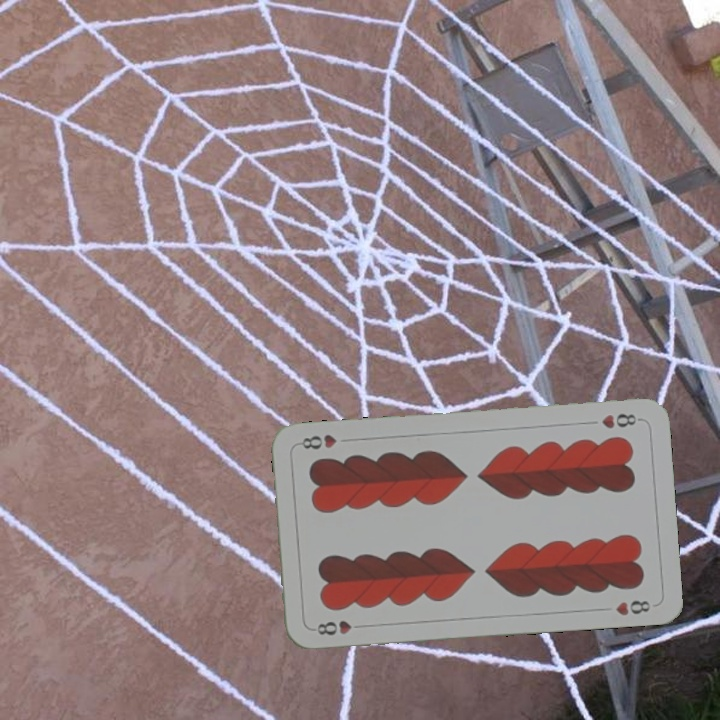H8: (313, 616, 368, 638), (597, 409, 643, 432)
